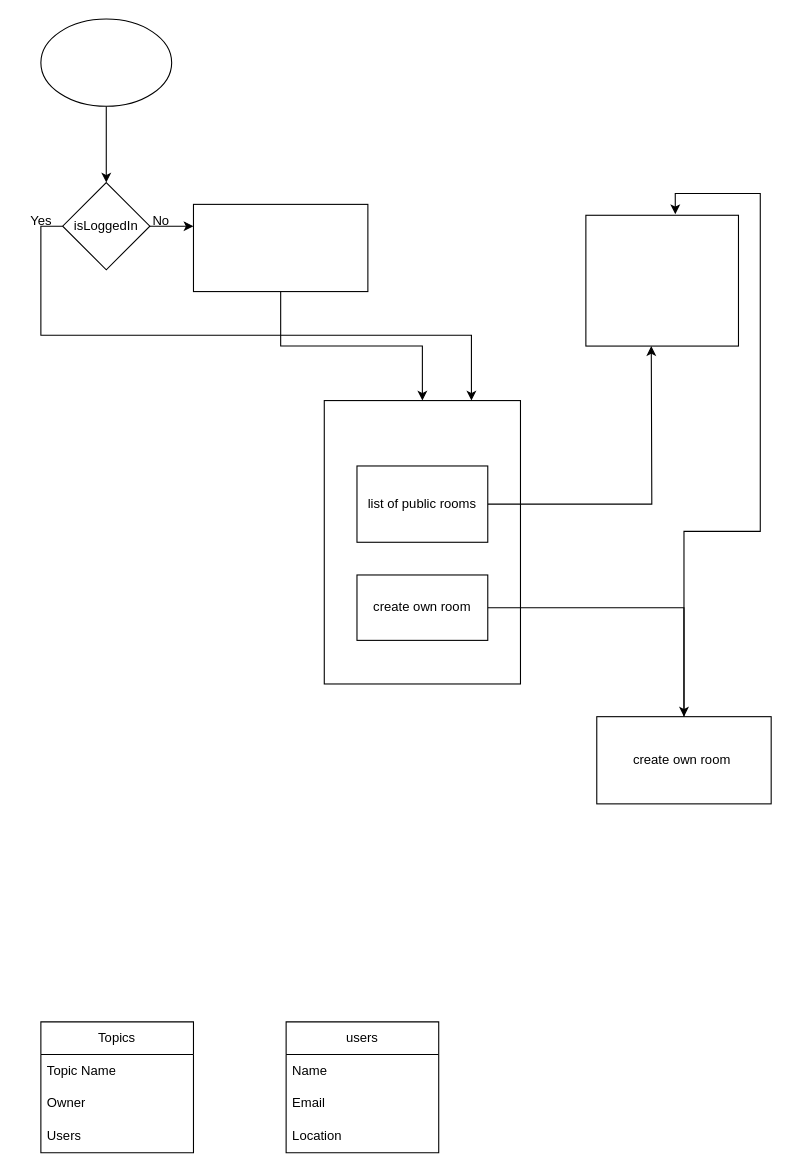
This 790x1172 diagram has some shape labels left out. The shapes that lost their labels are listed below. From the top down, each one's centre as x and y in pixels, then its label:
At pixel 106 62: "user".
At pixel 280 247: "authentication".
At pixel 661 280: "chat board".
